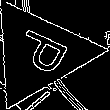P_SE: (4, 25, 74, 81)
